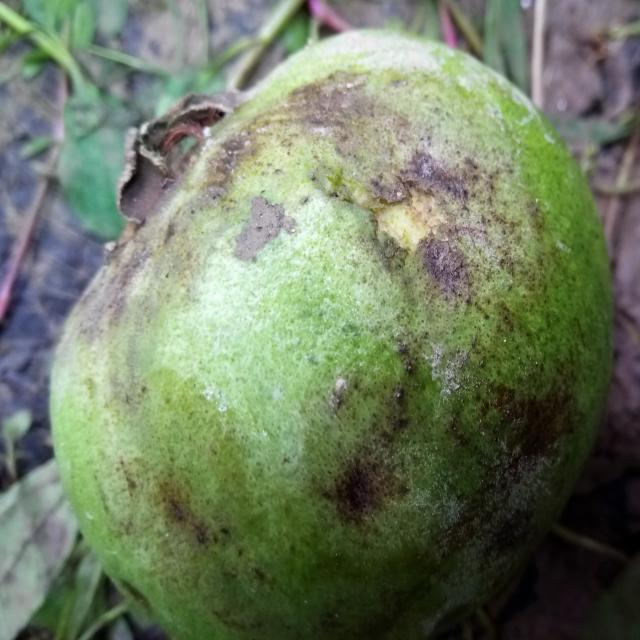Phytopthora: (54, 36, 611, 637)
